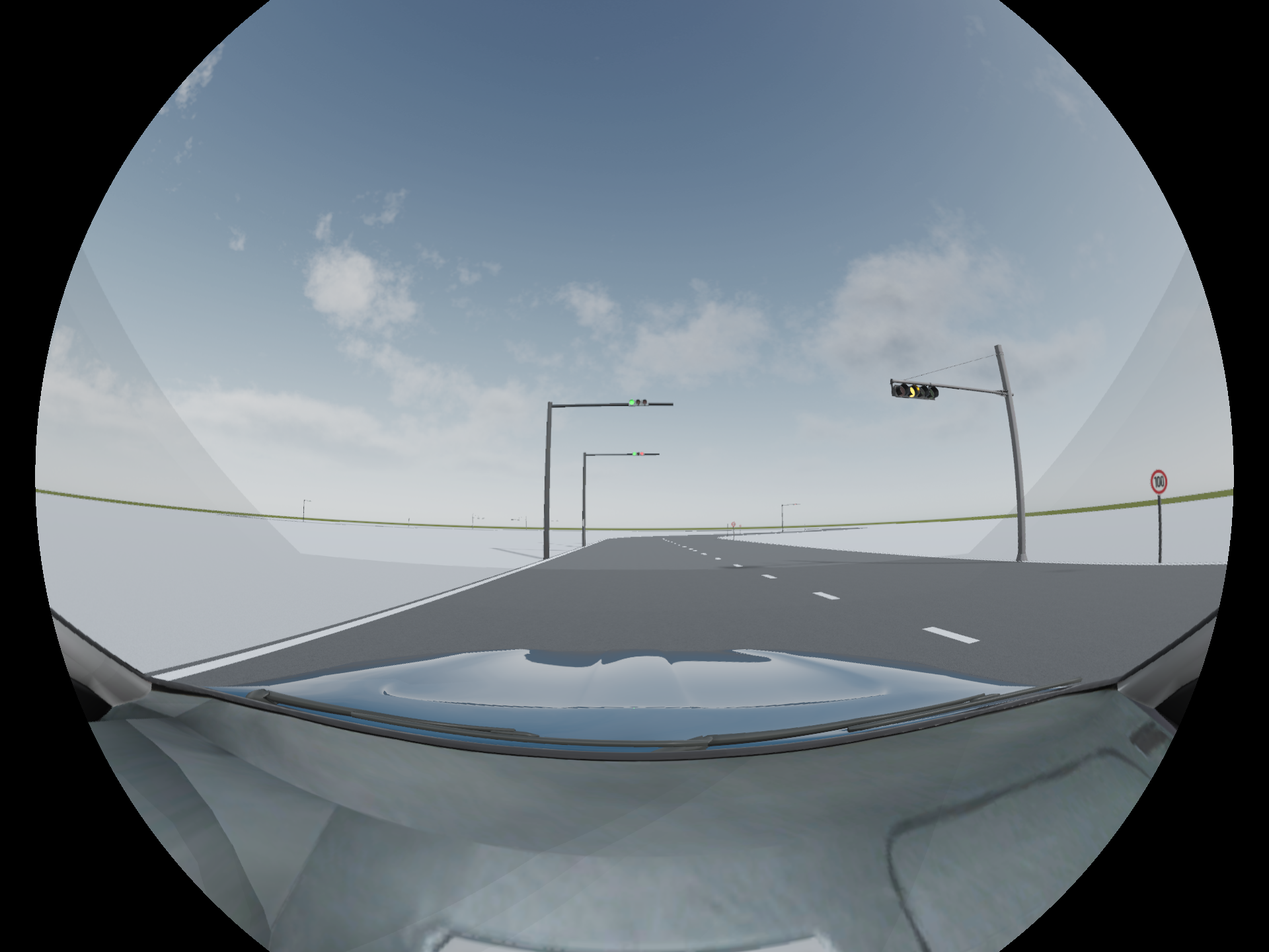Green Light: (628, 398, 648, 407)
Speed Limit 100: (1150, 468, 1169, 494)
